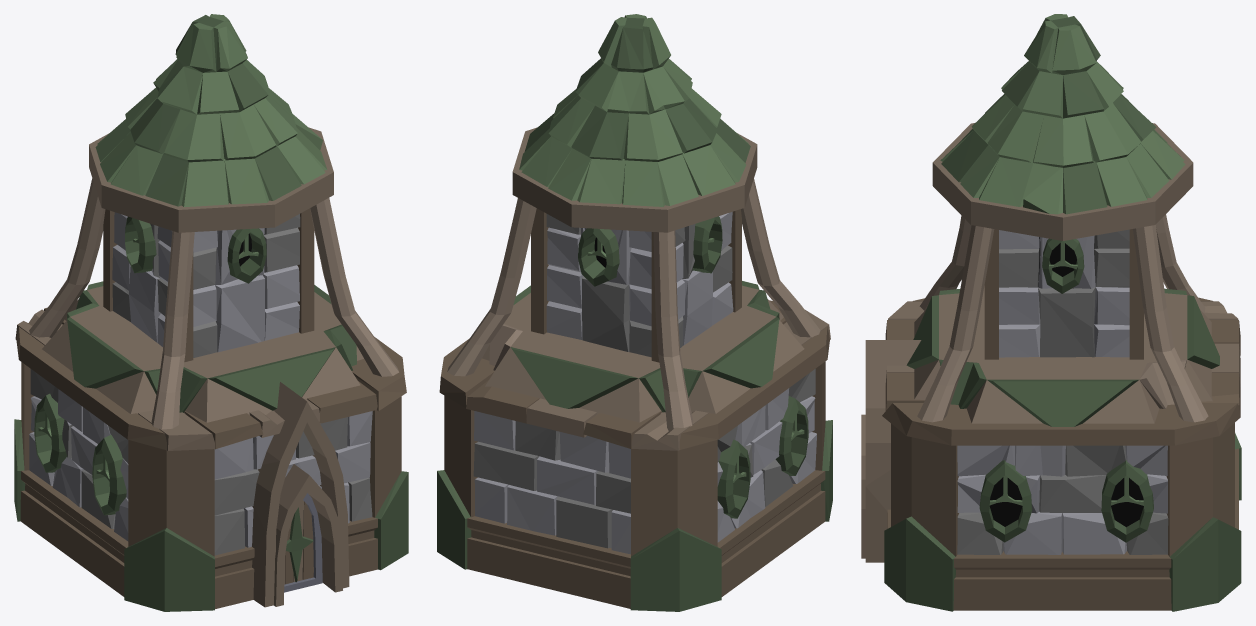
File: _arsenal_1.fbx
3 renders of one model, left to right at view 1: azimuth 30°, elevation 25°; view 2: azimuth 150°, elevation 25°; view 3: azimuth 270°, elevation 25°, orthographic. The views are drawn at different scales.
Visible parts, largest first — view 1: arsenal_2; view 2: arsenal_2; view 3: arsenal_2.
Part boxes in pixels (left/top/right/bottom): arsenal_2: left=14, top=14, right=408, bottom=611; arsenal_2: left=437, top=14, right=832, bottom=611; arsenal_2: left=861, top=14, right=1241, bottom=611.
Bounding box in the file's own units: 698 × 1198 × 795.
